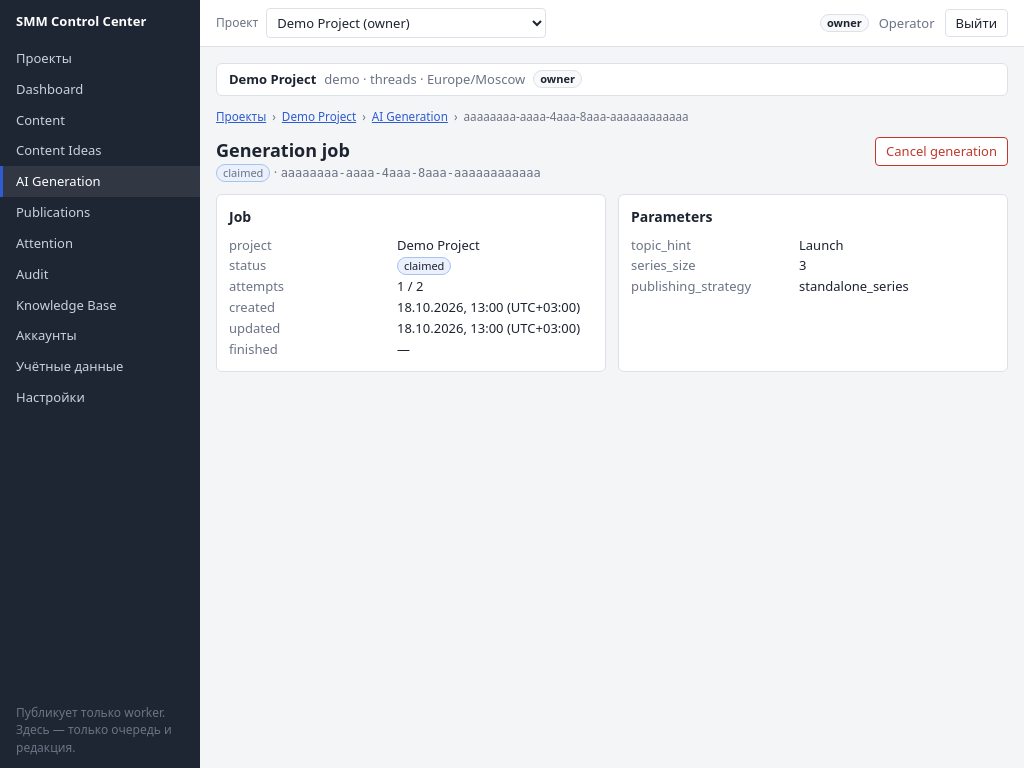
Scenario: generation job detail › owner cancels an active job once; the terminal response removes the action
Click the button "Cancel generation".
click(942, 151)  # box [875,137,1008,166]
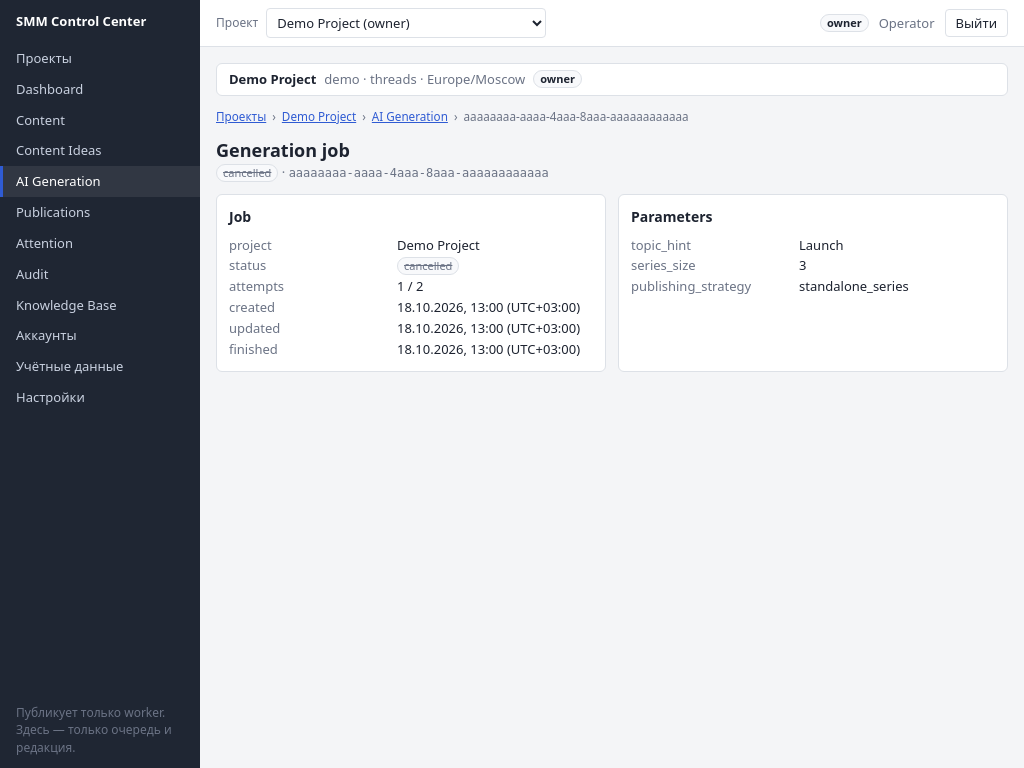
Result: the button "Cancel generation" is gone
